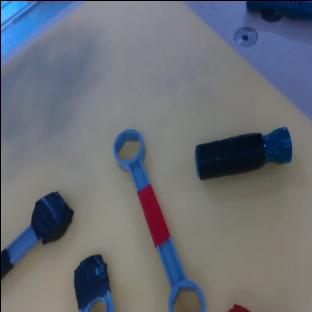part_1_bad: (69, 253, 114, 312)
part_1_good: (226, 304, 250, 312)
part_2_bad: (190, 124, 295, 182)
part_3_bad: (0, 187, 80, 279)
part_3_good: (100, 125, 209, 312)
